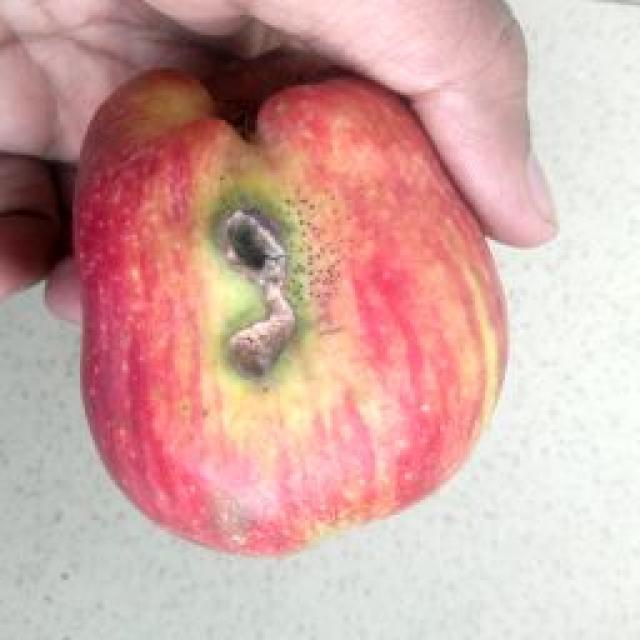Bad_Apple: (76, 74, 504, 553)
